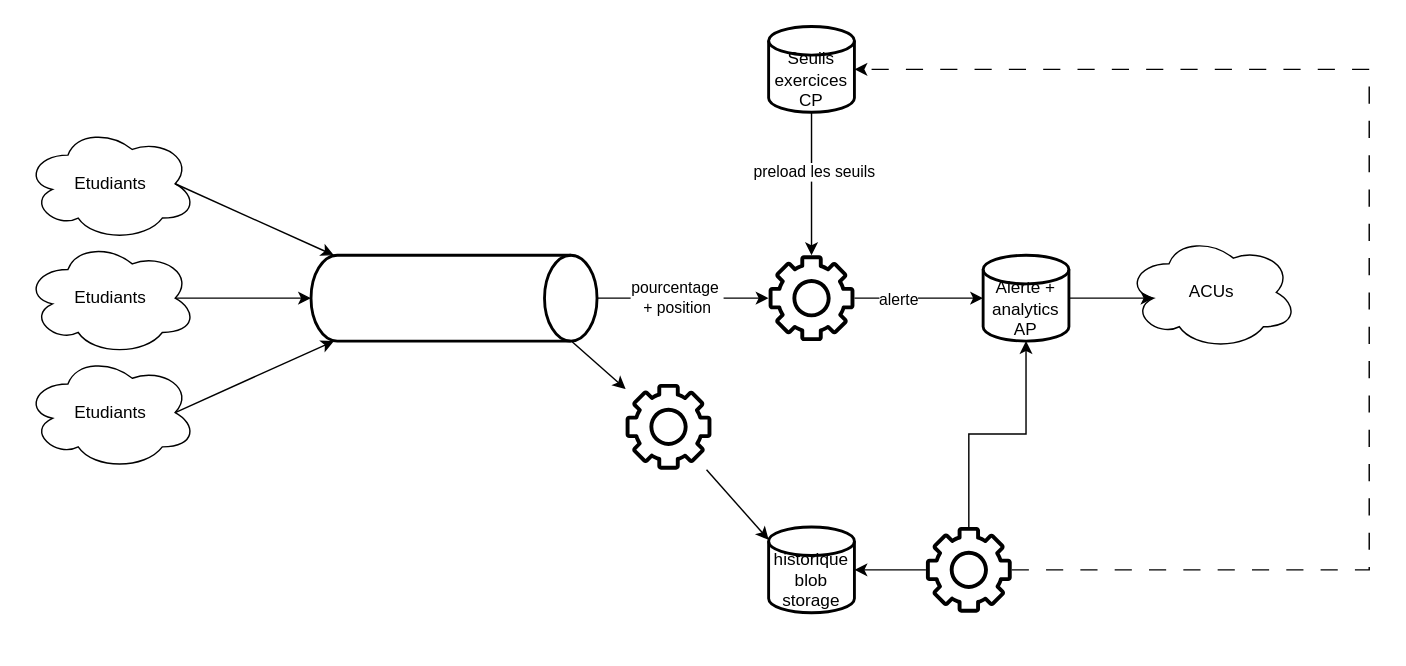
Image size: 1406x666. Some labels were removed from this diagram. The centre of each missing label's shape, as x and y in pixels:
"Analytics" belongs at point (968, 569).
"donner alerte si pourcentage < seuil" belongs at point (811, 297).
"Store" belongs at point (668, 426).
"Stream Kafka" belongs at point (453, 297).
